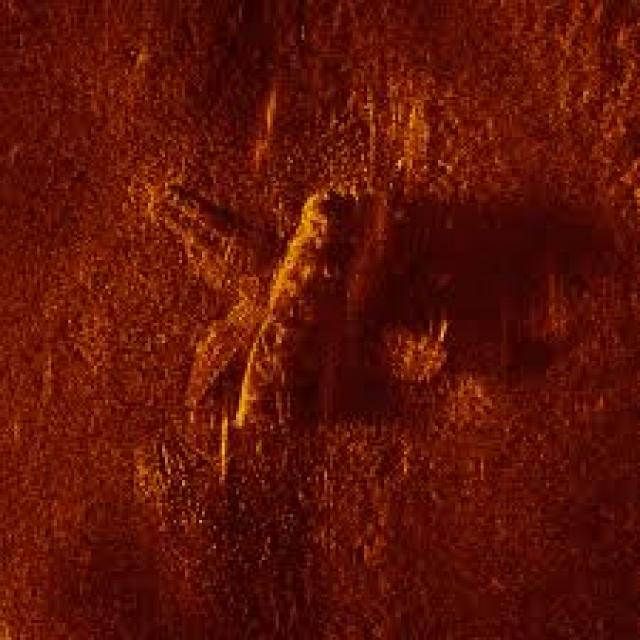plane: (108, 134, 518, 494)
